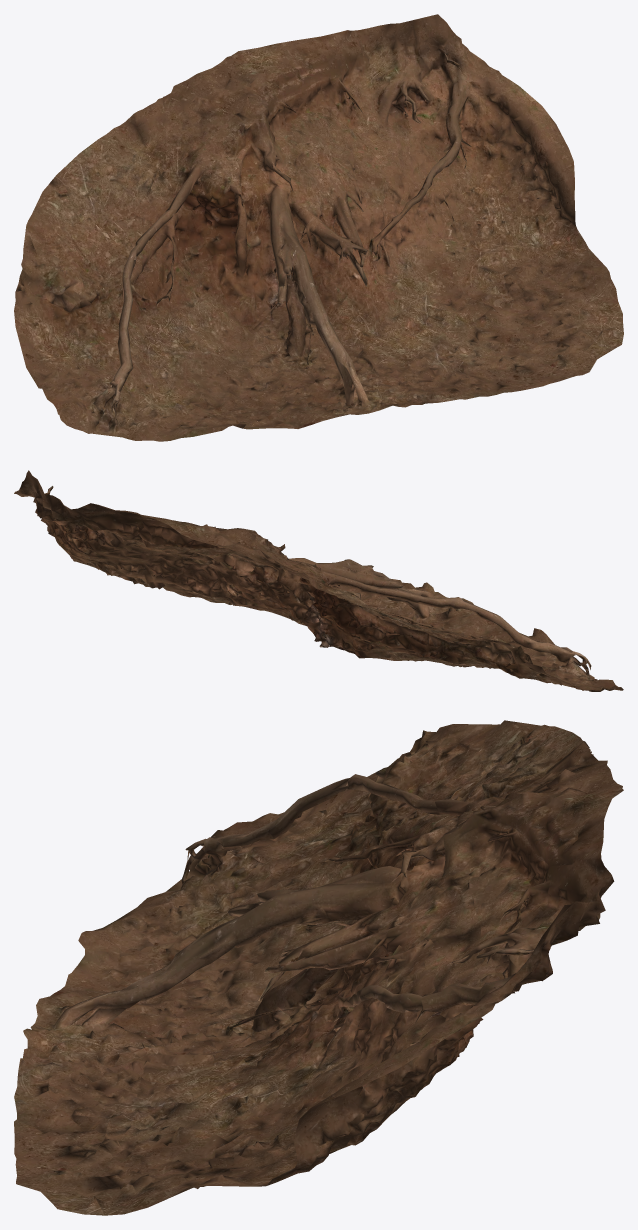
The model's file is root_cluster_01.glb.
The picture shows the model from 3 angles, top to bottom: view 1: azimuth 30°, elevation 25°; view 2: azimuth 150°, elevation 25°; view 3: azimuth 270°, elevation 25°; orthographic projection. The views are drawn at different scales.
Visible parts, largest first — view 1: root_cluster_01; view 2: root_cluster_01; view 3: root_cluster_01.
Boxes of the visible parts, x1,y1,x2,y2 form: root_cluster_01: (14,14,623,441); root_cluster_01: (14,470,623,691); root_cluster_01: (14,720,623,1215).
Size of the model in its own units: 4.12 by 1.51 by 2.68.
Materials: 1 (1 with a texture image).
